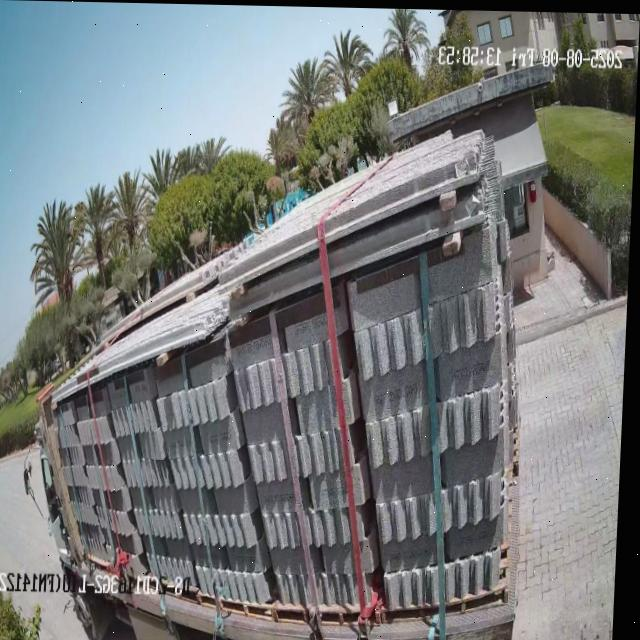bricks: (52, 131, 514, 621)
